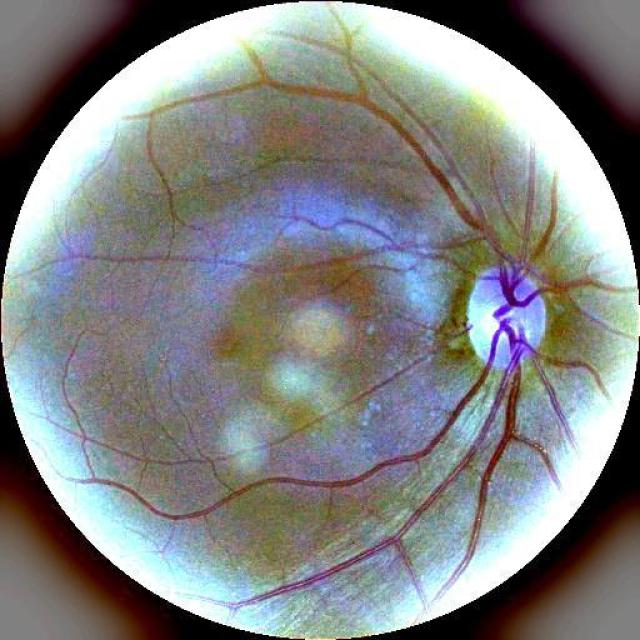Optic Disk: (468, 268, 545, 366)
